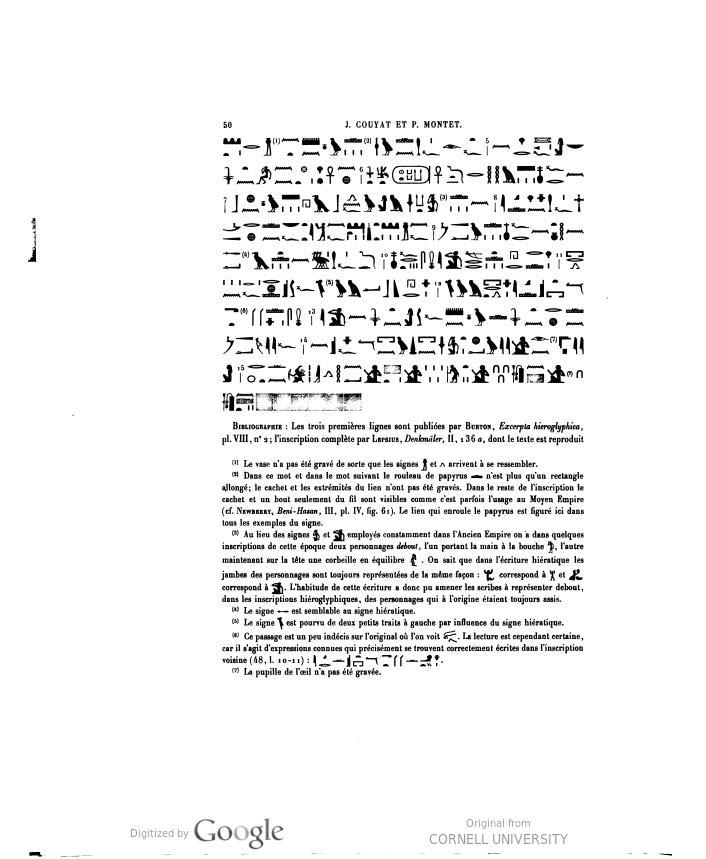circle: (384, 160, 435, 195)
